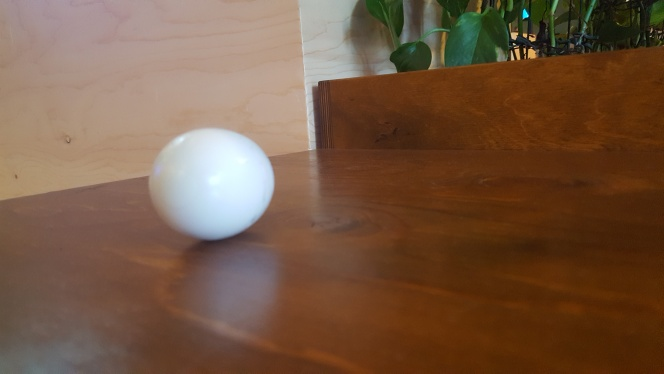egg: (146, 127, 275, 241)
